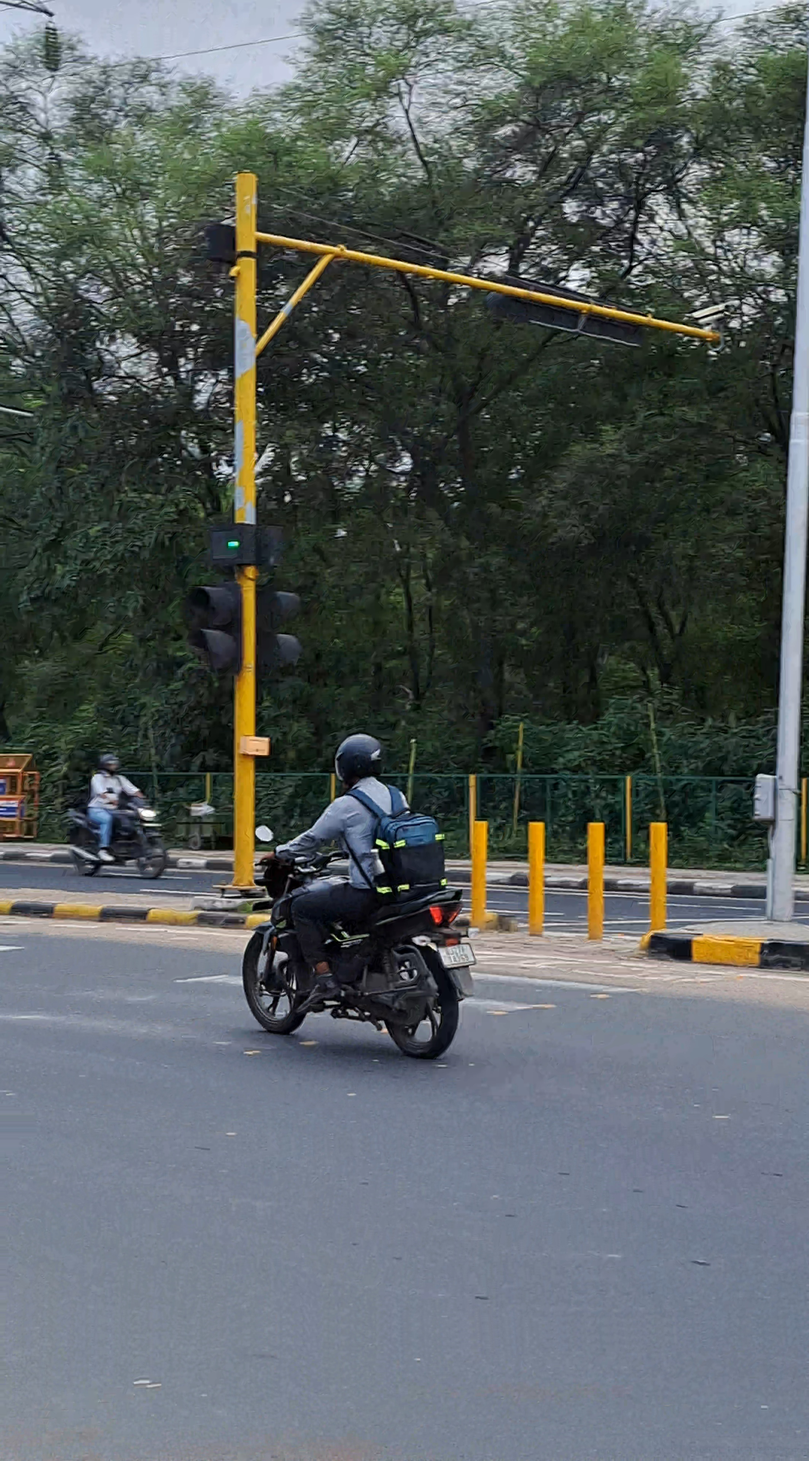BikeWithRider: (233, 726, 483, 1067), (56, 745, 174, 884)
Helmet: (326, 729, 396, 787)
